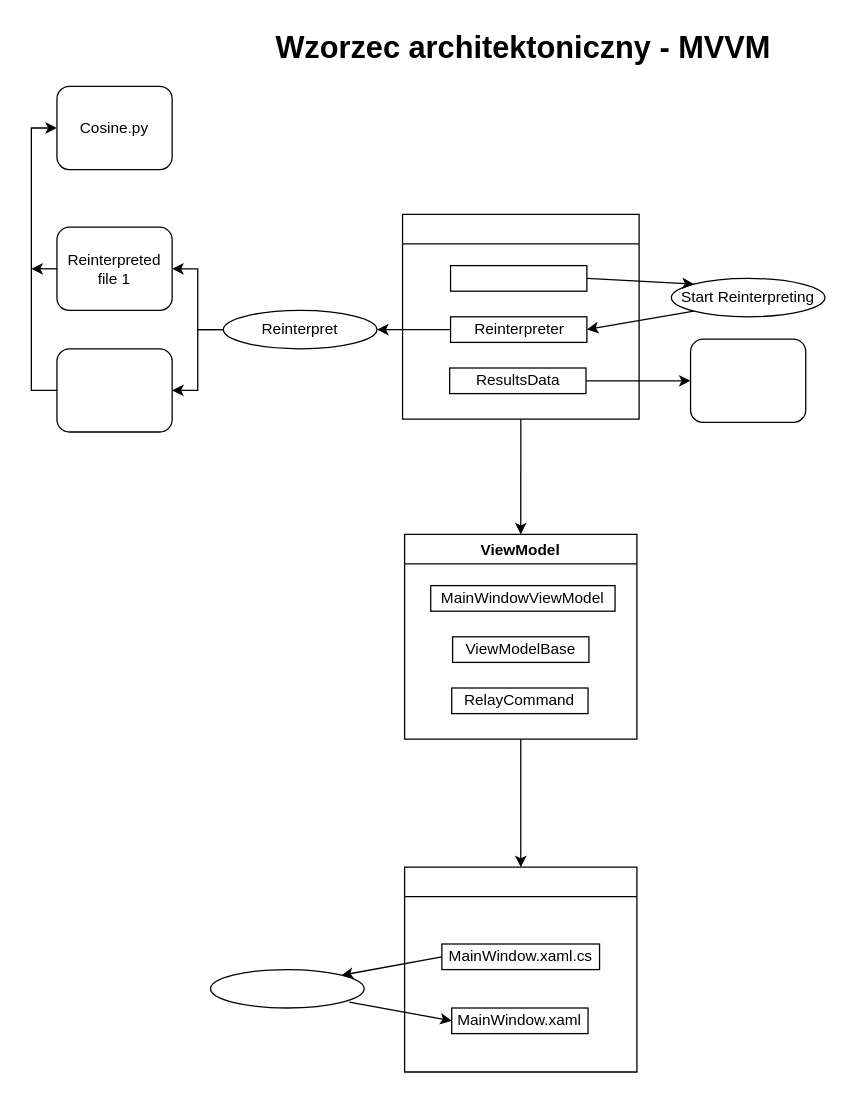
This 847x1094 diagram has some shape labels left out. Here are the shapes that lost their labels. From the top down, the box of each, then its label:
(449, 264, 587, 291): PlagiarismCheck
(401, 213, 639, 419): Model
(56, 348, 172, 432): Reinterpreted file 2
(689, 338, 806, 422): Similarity measures
(209, 968, 364, 1008): init
(403, 866, 637, 1072): View
